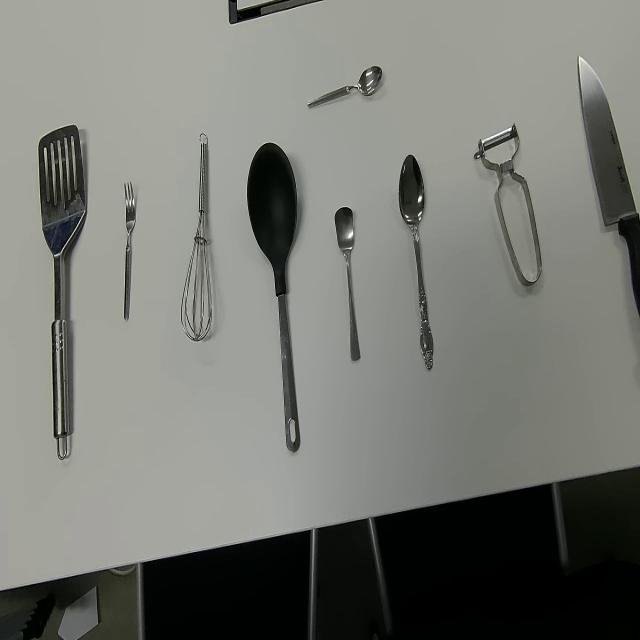Desert-Spoon: (398, 153, 434, 373)
Dinner-Fork: (123, 181, 136, 324)
Kitchen-Knife: (577, 54, 640, 319)
Peeler: (473, 122, 543, 286)
Serving-Spoon: (246, 141, 301, 455), (37, 122, 86, 461)
Tea-Spoon: (333, 205, 362, 364), (306, 63, 383, 111)
Whisk: (180, 132, 213, 344)
